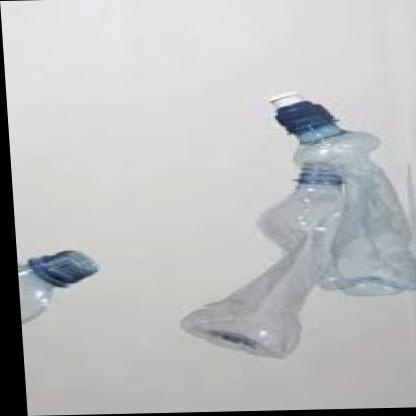trash: (181, 94, 415, 356)
